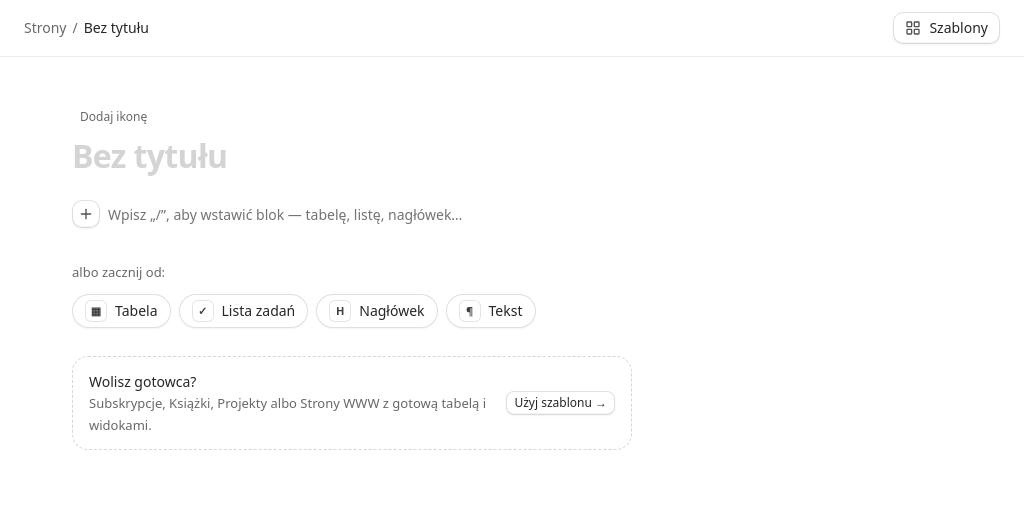
Test: EditorView › „/” otwiera menu, ↓↓ Enter wstawia trzecią pozycję (Nagłówek)
Type "/" into the dropdown named "Nowy blok". click: [554, 214]
box: [108,198,1000,231]
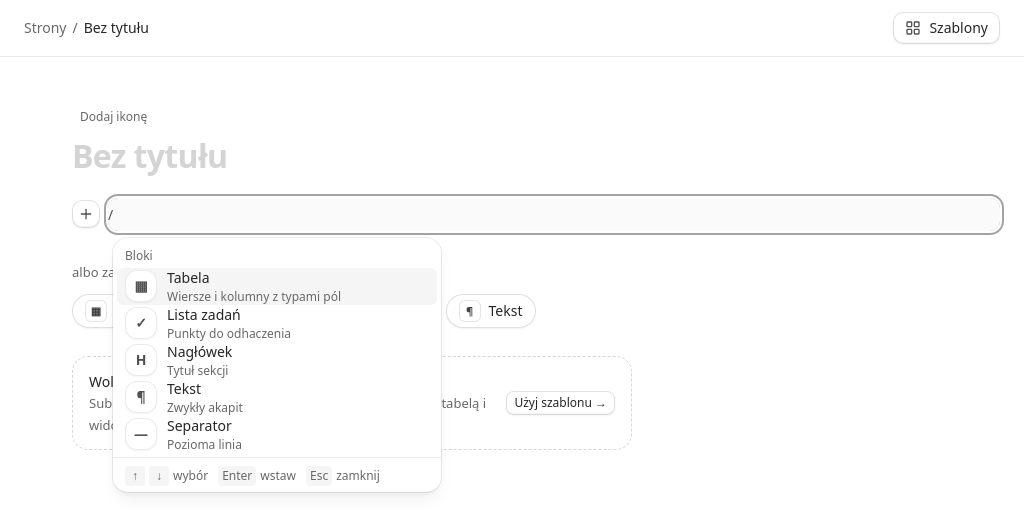
Check: the number of options is 5, box [117,268,437,305]; [117,305,437,342]; [117,342,437,379]; [117,379,437,416]; [117,416,437,453]
Press Arrowdown Arrowdown Enter
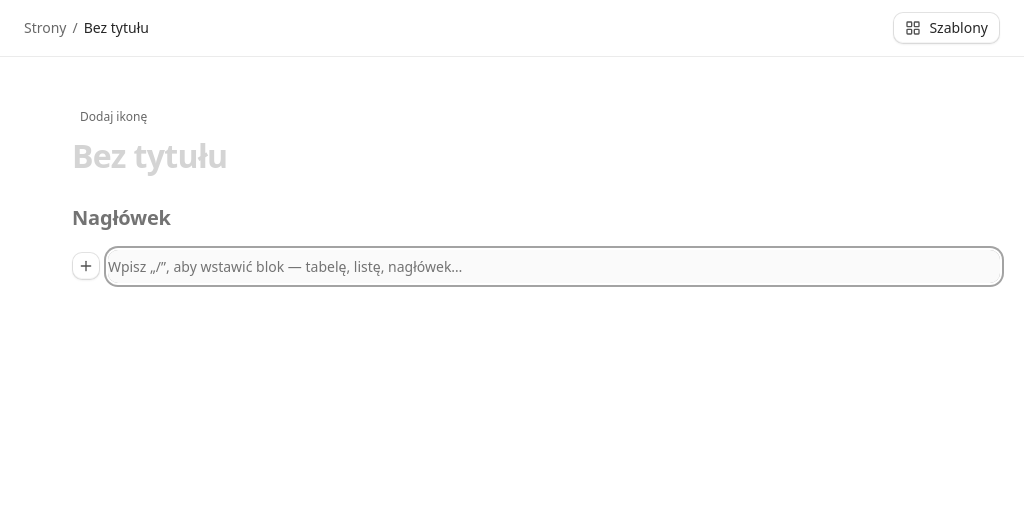
Check: the text "Bloki" is gone
Check: the field labelled "Nagłówek" is shown, box [72,198,964,238]
